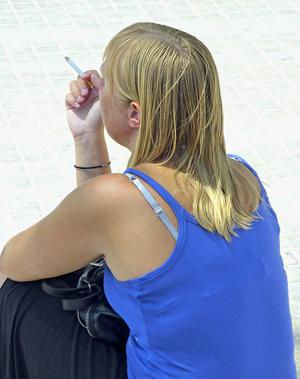person: (1, 22, 298, 379)
